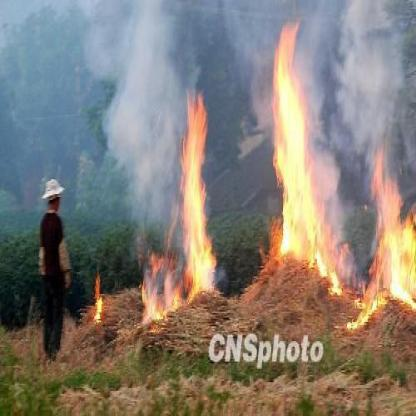fire: (265, 18, 346, 298), (129, 95, 225, 314), (357, 144, 414, 326), (88, 264, 110, 327)
smoke: (94, 0, 182, 216), (336, 0, 414, 162)
